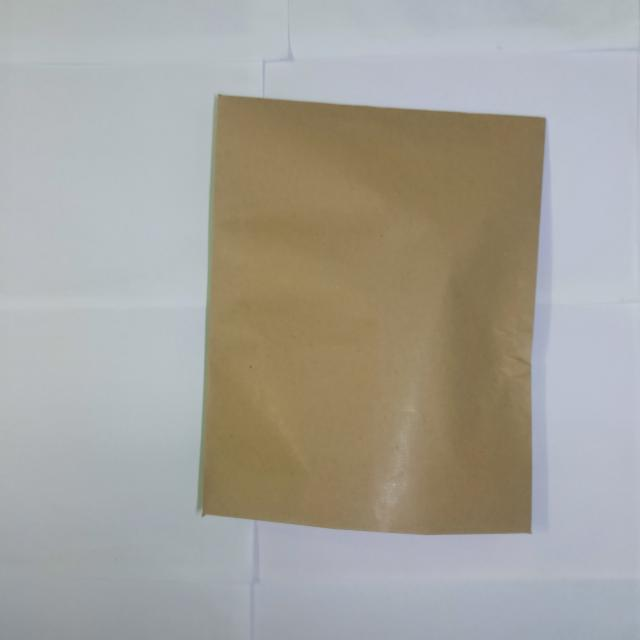box: (204, 97, 547, 534)
